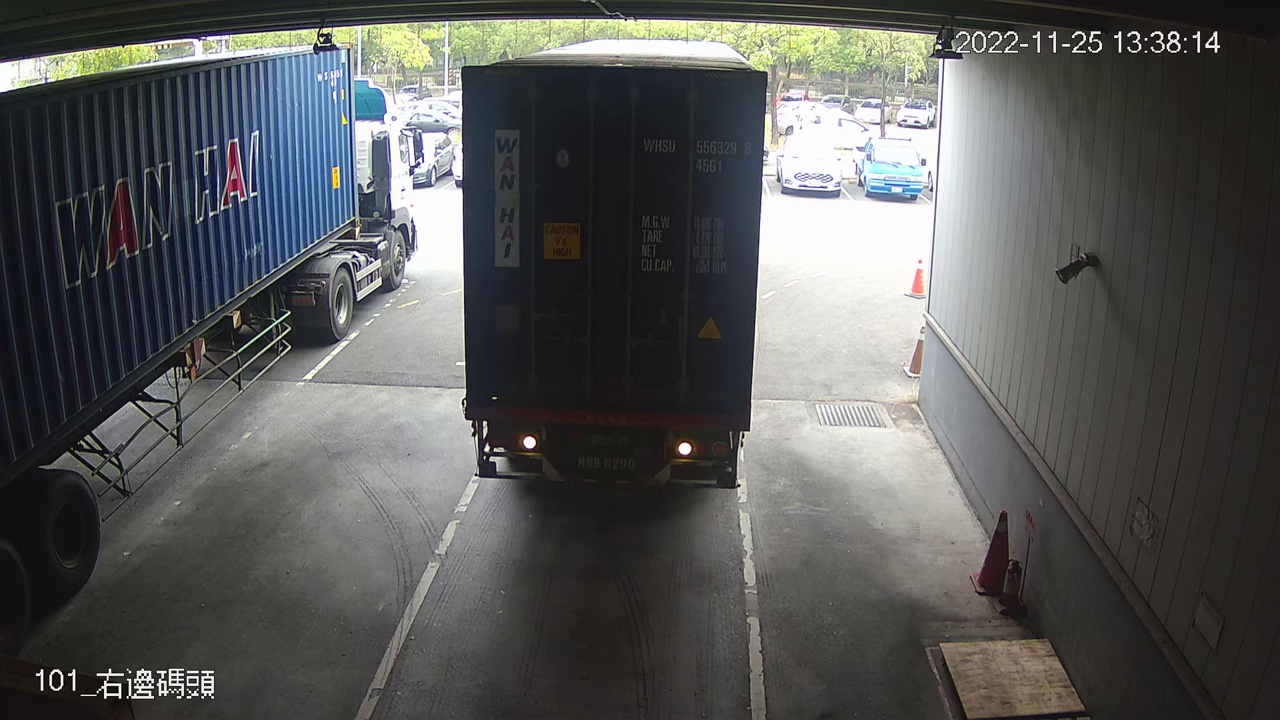container: (639, 131, 756, 178)
